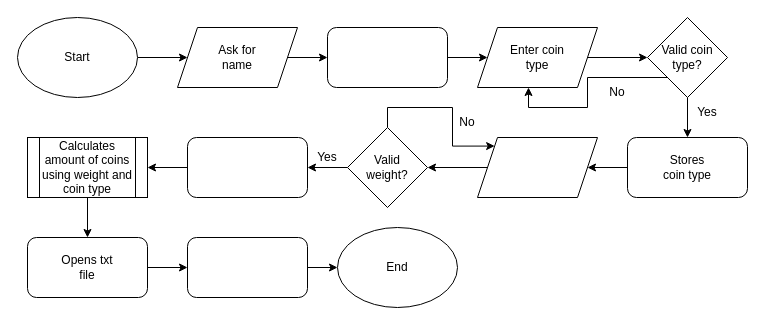
Image size: 765x325. Some labels were removed from this diagram. Each missing label, with the centre of its shape:
"Enter weight" belongs at point 537,167.
"Stores in txt file" belongs at point 247,267.
"Stores name" belongs at point 387,57.
"Stores weight" belongs at point 247,167.
